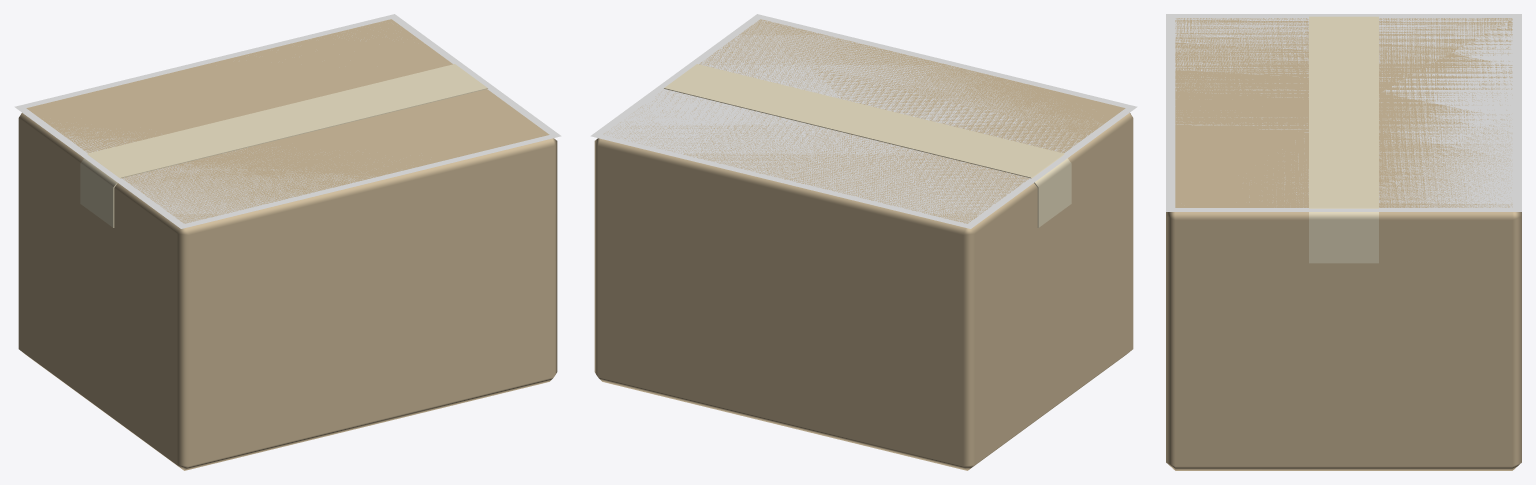
The model's file is cardboard-box.glb.
3 renders of one model, left to right at view 1: azimuth 30°, elevation 25°; view 2: azimuth 150°, elevation 25°; view 3: azimuth 270°, elevation 25°, orthographic. The views are drawn at different scales.
Parts seen in each view (by area): view 1: Box, Tape, __TOP__; view 2: Box, __TOP__, Tape; view 3: Box, __TOP__, Tape.
Part boxes in pixels (<box>): Box: <box>18,19,557,470</box>; Tape: <box>80,64,487,227</box>; __TOP__: <box>14,14,561,228</box>; Box: <box>594,19,1133,470</box>; __TOP__: <box>590,14,1137,228</box>; Tape: <box>664,64,1071,227</box>; Box: <box>1166,18,1521,470</box>; __TOP__: <box>1166,14,1521,211</box>; Tape: <box>1309,16,1378,263</box>.
Bounding box in the file's own units: 0.502 × 0.311 × 0.38.
